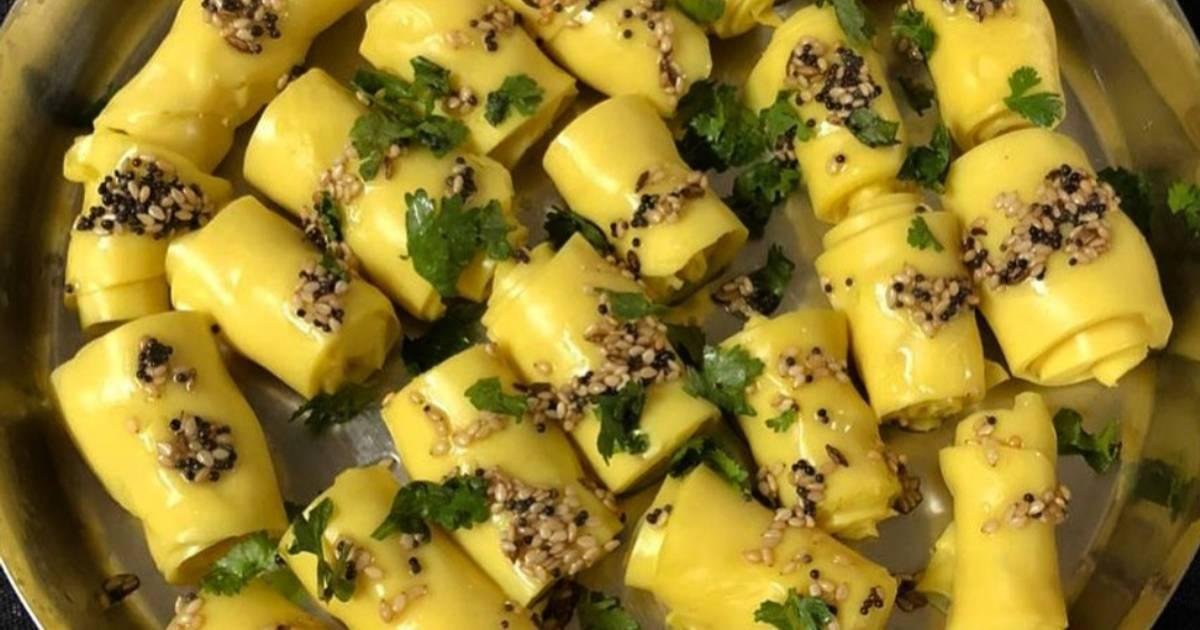khandvi: (67, 27, 1200, 630)
